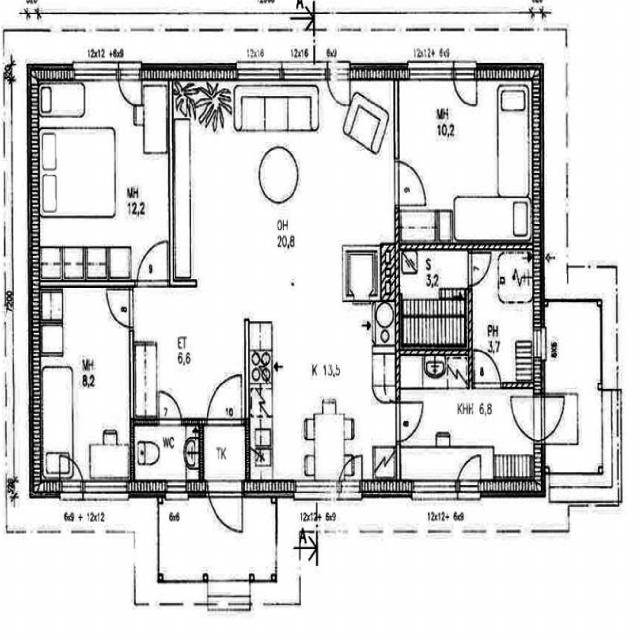door: (208, 480, 242, 546), (501, 396, 544, 441), (207, 369, 241, 425), (532, 396, 574, 441), (396, 160, 431, 206), (137, 236, 167, 287), (396, 403, 427, 441), (474, 344, 500, 389), (104, 290, 134, 327), (468, 252, 495, 285), (159, 387, 181, 425)
